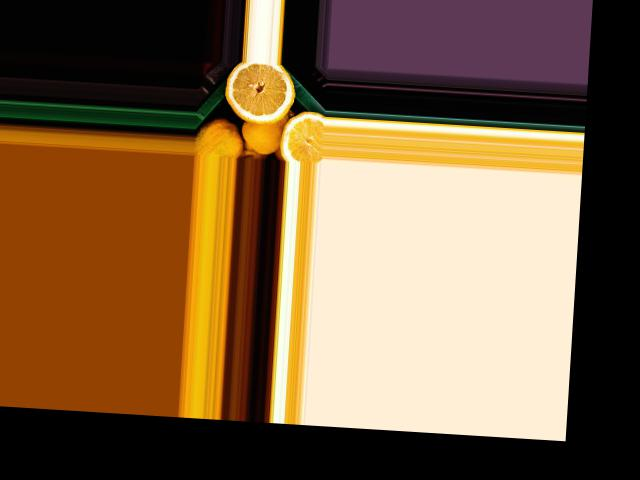lemon: (241, 110, 290, 157)
